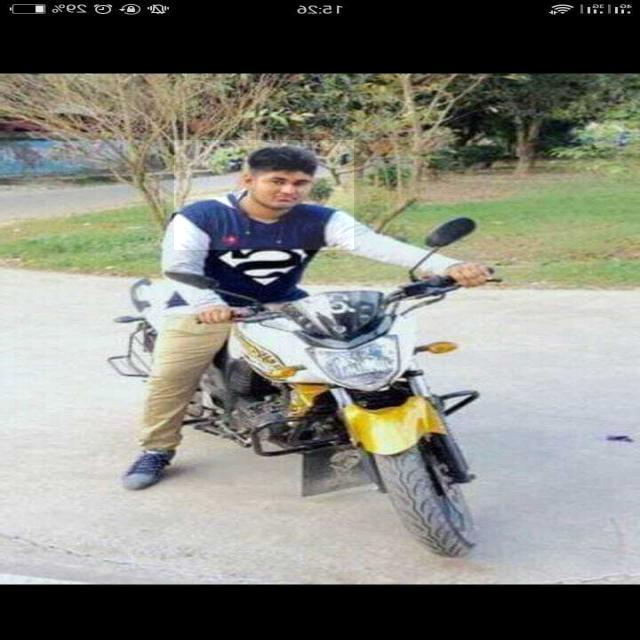No_Helmet: (174, 140, 354, 250)
